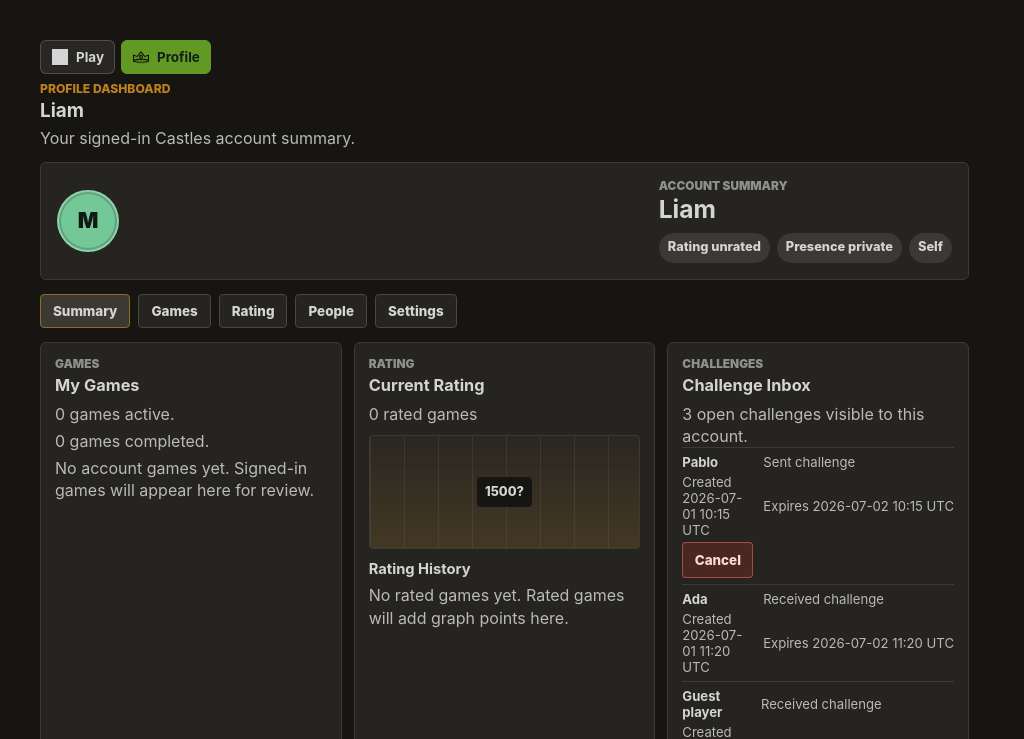
Test: OnlineProfileDashboard › shows only open self challenges with opponent names and no raw challenge ids
Expected: the heading "Liam" is shown, top-left (40, 99), bottom-right (84, 122)
Expected: the text "3 open challenges visible to this account." is shown, top-left (682, 403), bottom-right (954, 447)
Step 1. Click the button named "Cancel challenge to Pablo" → coordinates (718, 560), box top-left (682, 542), bottom-right (753, 578)
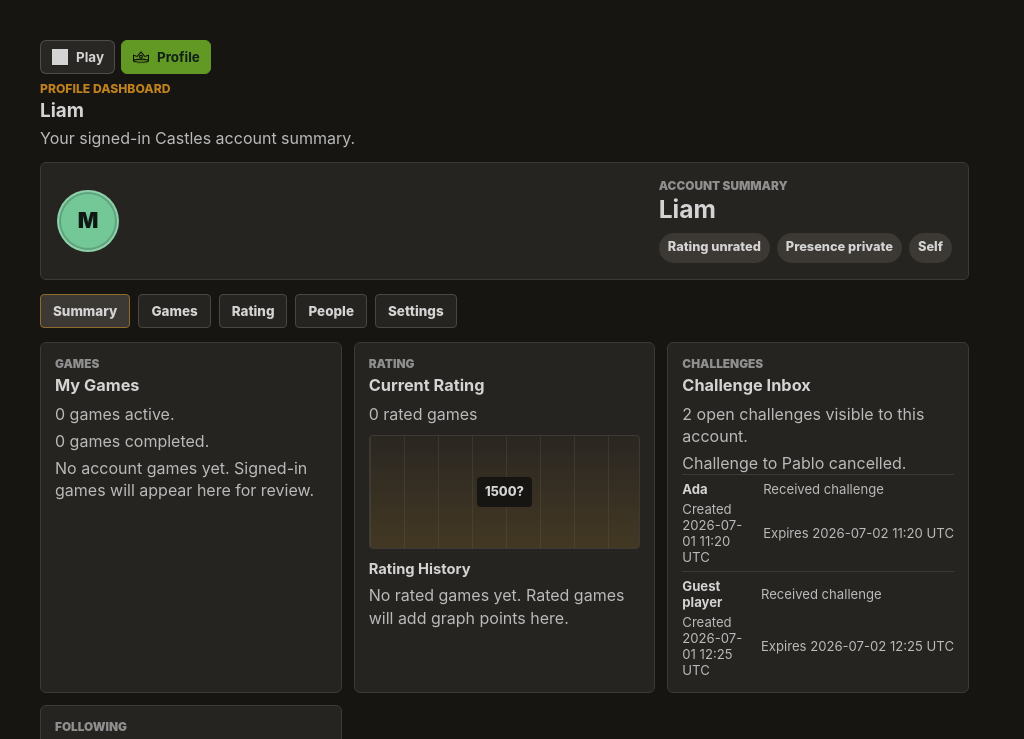
Expected: the text "Challenge to Pablo cancelled." is shown, top-left (682, 453), bottom-right (906, 473)
